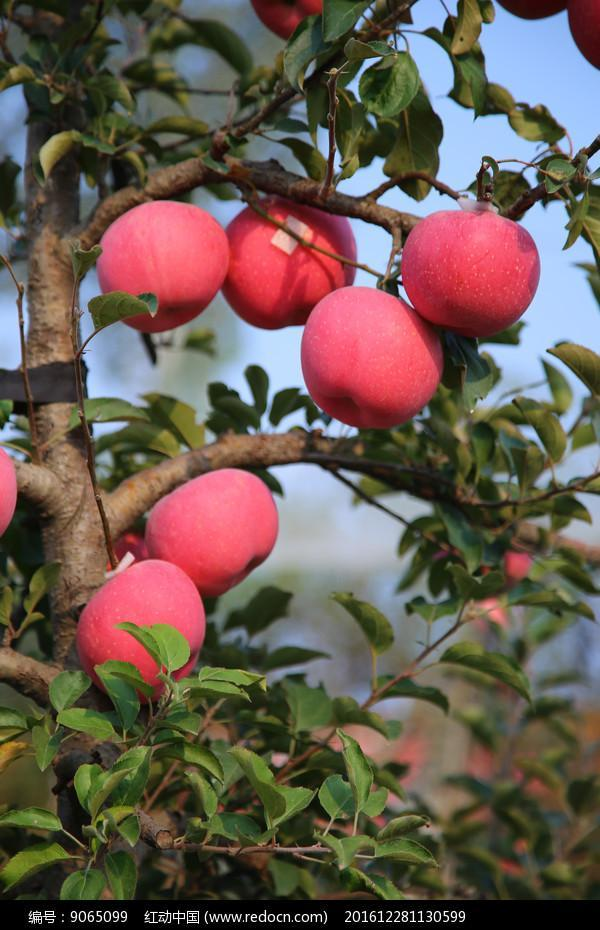apple: (298, 284, 442, 432), (400, 205, 538, 339), (220, 197, 357, 330), (95, 200, 230, 330), (141, 467, 278, 595), (72, 560, 203, 692), (247, 1, 321, 39)
